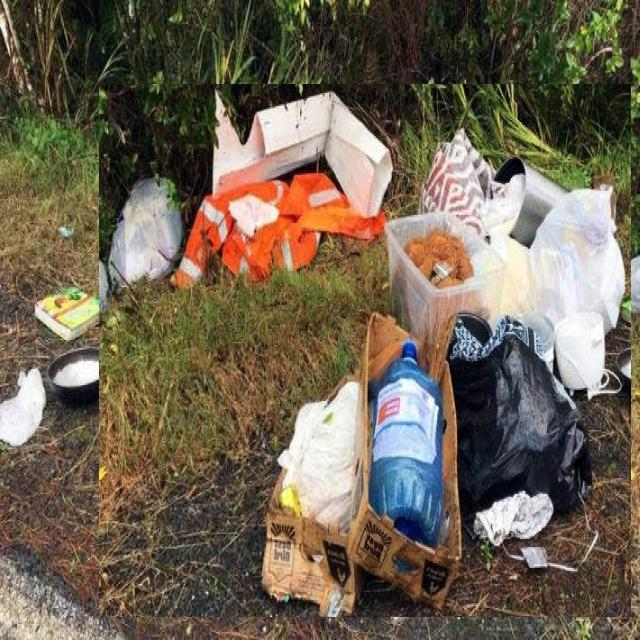dumping: (99, 84, 631, 617)
